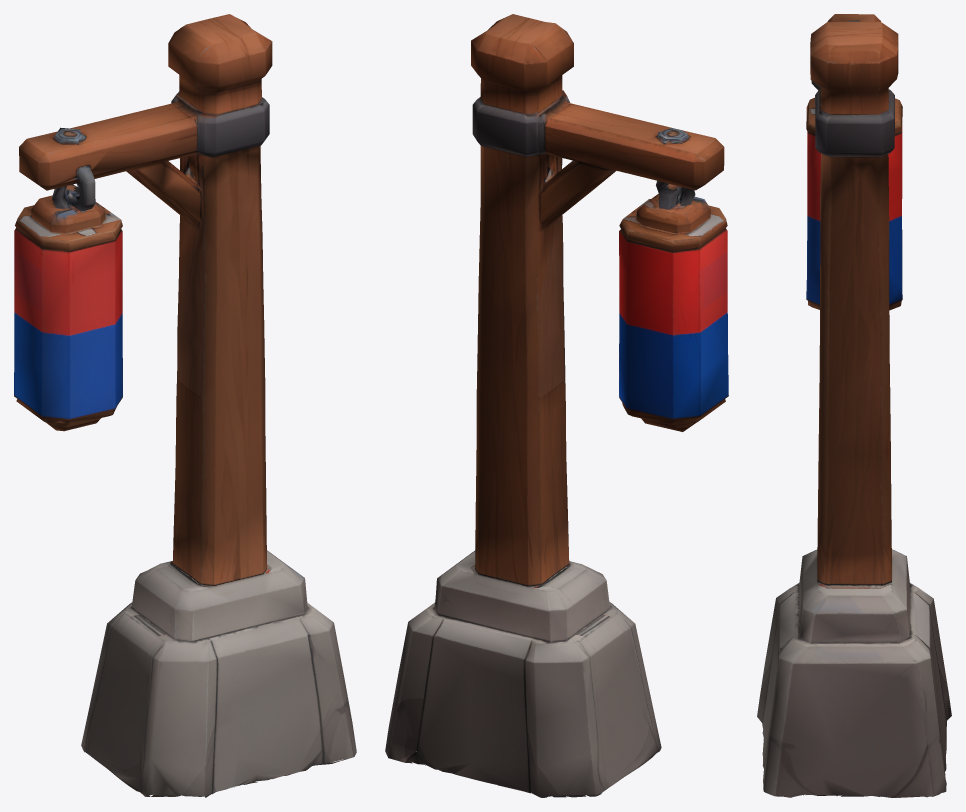
File: lantern.glb
3 views of the same model, side by side, from view 1: azimuth 30°, elevation 25°; view 2: azimuth 150°, elevation 25°; view 3: azimuth 270°, elevation 25° (orthographic).
Visible parts, largest first — view 1: low; view 2: low; view 3: low.
Boxes of the visible parts, x1=… form: low: x1=14, y1=14, x2=356, y2=797; low: x1=385, y1=14, x2=728, y2=797; low: x1=757, y1=14, x2=951, y2=797.
Size of the model in its own units: 0.4217 by 1 by 0.2454.
Materials: 1 (1 with a texture image).
